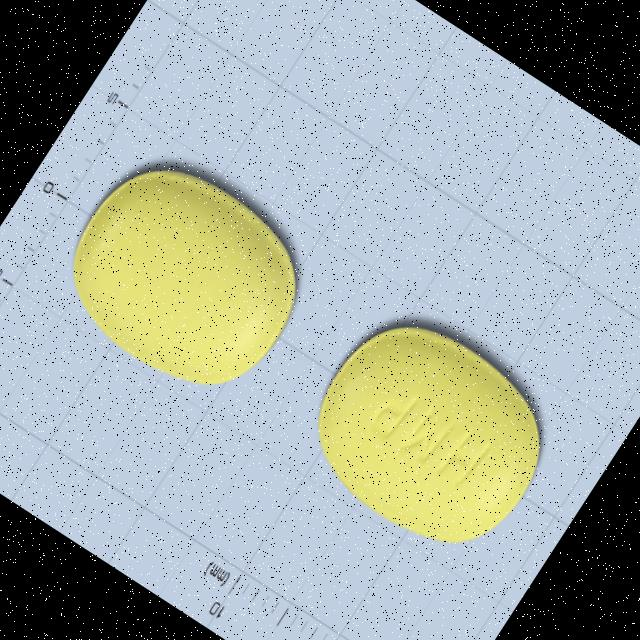Clari: (275, 286, 579, 580), (32, 128, 335, 422)
